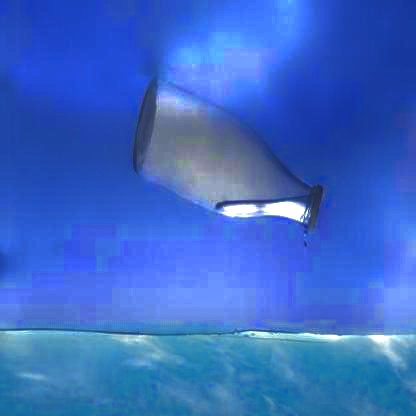gbottle: (132, 74, 323, 231)
